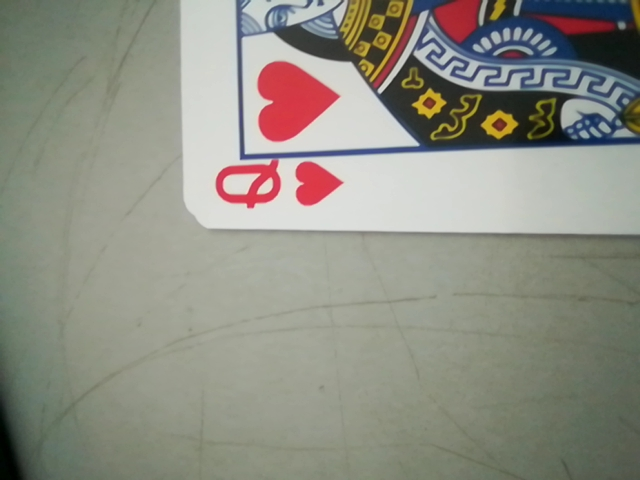hx q: (208, 154, 346, 221)
